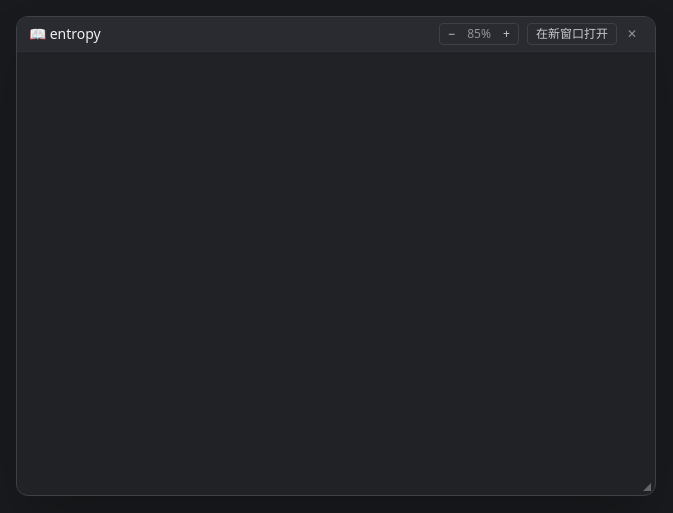
Test case: DictionaryPopup — zoom › keeps a user-adjusted zoom when the page becomes ready again
The image size is (673, 513).
Expected: the text "85%" is shown, 467,25 -> 491,42
Click the button titled "放大". click: (506, 34)
box: 499,26 -> 514,42
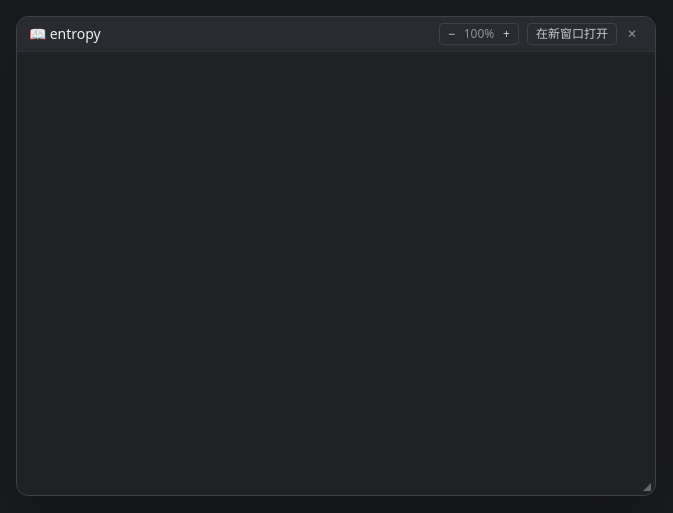
Expected: the text "100%" is shown, 464,25 -> 494,42
